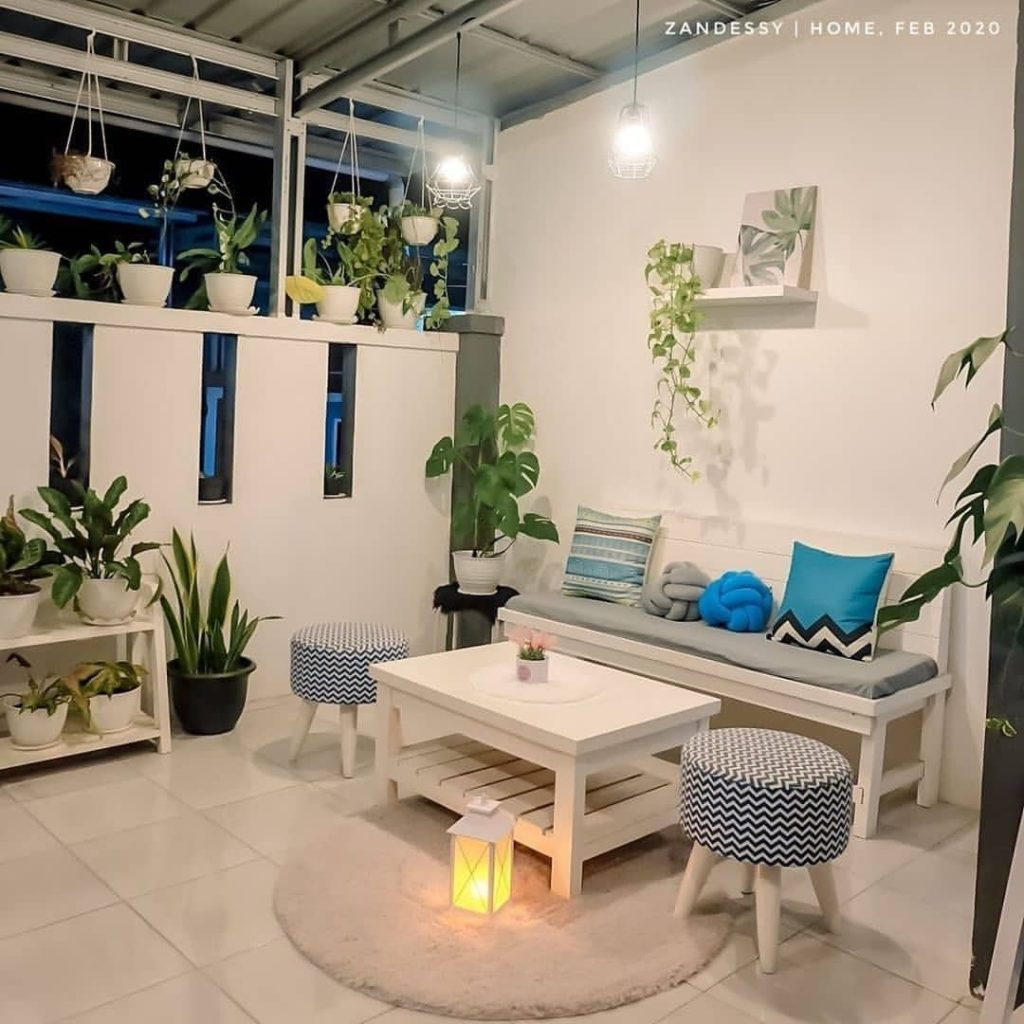bantal: (766, 540, 894, 659), (556, 500, 660, 602)
kursi: (666, 726, 860, 982), (282, 621, 407, 782)
lukisan: (728, 187, 820, 294)
meja: (372, 638, 713, 899)
tanaman: (948, 299, 1024, 606), (157, 528, 261, 734), (424, 399, 530, 601), (639, 238, 718, 476), (49, 477, 148, 623), (197, 204, 267, 316), (305, 227, 375, 324), (2, 488, 44, 640), (4, 661, 76, 742), (72, 653, 145, 730), (2, 218, 66, 296), (109, 238, 180, 304), (382, 243, 428, 328), (322, 186, 378, 234), (395, 195, 447, 244), (515, 629, 554, 684)
